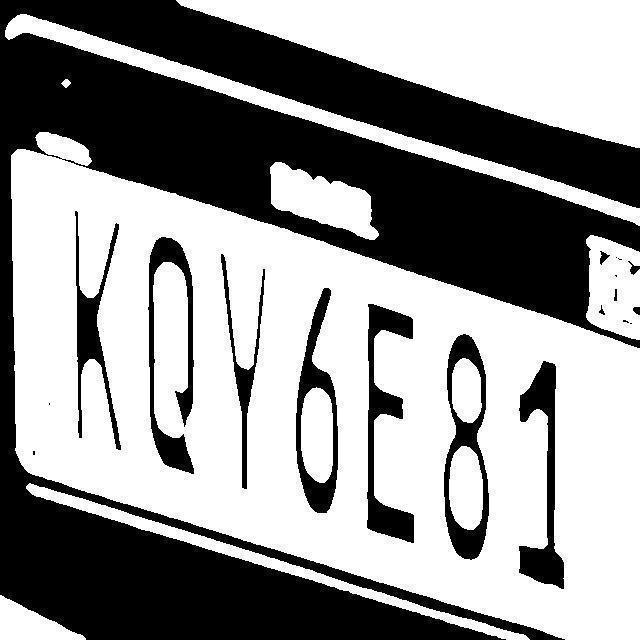1: (508, 356, 572, 596)
6: (291, 278, 352, 525)
8: (438, 328, 501, 568)
e: (360, 300, 430, 552)
k: (63, 205, 134, 462)
q: (146, 234, 212, 478)
y: (219, 246, 282, 497)
